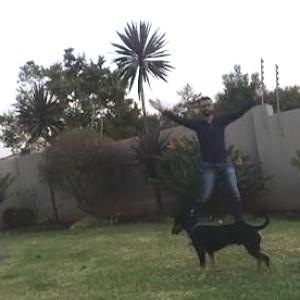takeoff: (147, 85, 265, 222)
